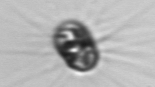plankton: (49, 16, 104, 75)
